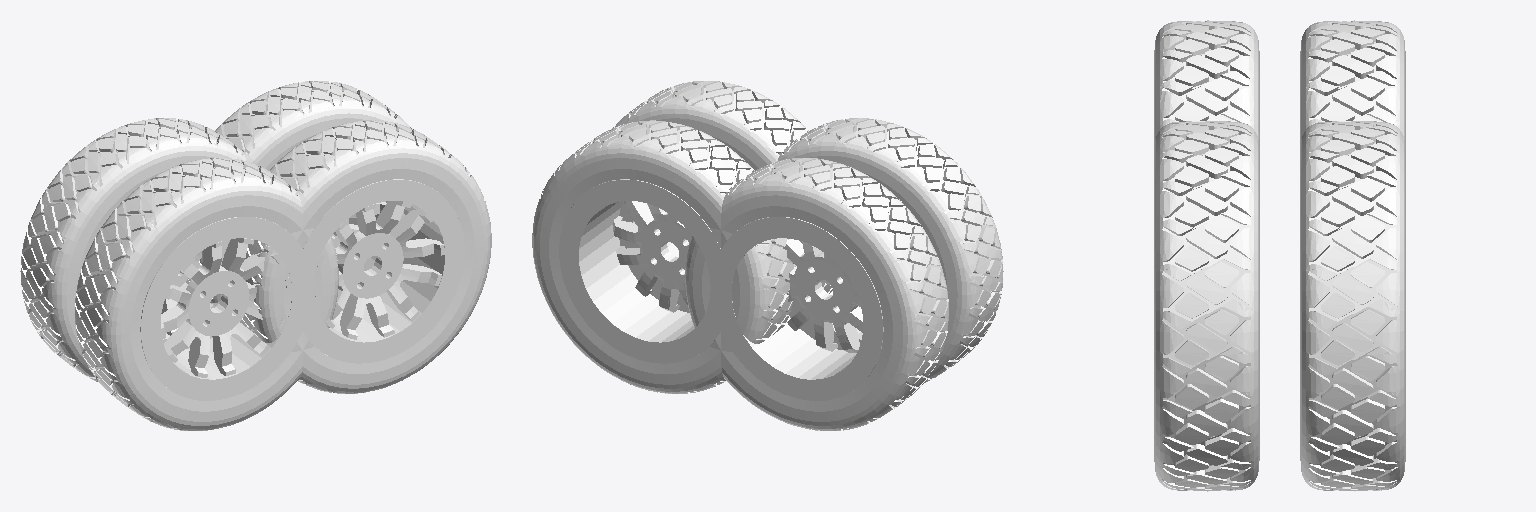
robot.urdf — racecar:
<?xml version="1.0" ?>
<!-- =================================================================================== -->
<!-- |    This document was autogenerated by xacro from racecar.xacro                  | -->
<!-- |    EDITING THIS FILE BY HAND IS NOT RECOMMENDED                                 | -->
<!-- =================================================================================== -->
<robot name="racecar" xmlns:xacro="http://www.ros.org/wiki/xacro">
  <!-- inertial parameter macros -->
  <!-- geometry macros -->
  <!-- transmission macros -->
  <!-- Add chassis and it's inertia link -->
  <link name="base_link">
   <inertial>
      <origin rpy="0 0 0" xyz="0 0 0"/>
      <mass value=".1"/>
      <inertia ixx="0.010609" ixy="0" ixz="0" iyy="0.050409" iyz="0" izz="0.05865"/>
    </inertial>
  </link>
  <link name="chassis">
   <inertial>
      <origin rpy="0 0 0" xyz="0 0 0"/>
      <mass value=".1"/>
      <inertia ixx="0.010609" ixy="0" ixz="0" iyy="0.050409" iyz="0" izz="0.05865"/>
    </inertial>
    <visual>
      <origin rpy="0 0 0" xyz="0 0 0"/>
      <geometry>
        <mesh filename="meshes/apcar_base.stl"/>
      </geometry>
      <material name="blue"/>
    </visual>
  </link>
  <joint name="base_link_joint" type="fixed">
    <origin rpy="0 0 0" xyz="0 0 0.05"/>
    <parent link="base_link"/>
    <child link="chassis"/>
  </joint>
  <link name="chassis_inertia">
    <inertial>
      <origin rpy="0 0 0" xyz="0.1477 0 0"/>
      <mass value="650.0"/>
      <inertia ixx="227.1" ixy="0" ixz="0" iyy="600.2" iyz="0" izz="591.5"/>
    </inertial>
  </link>
  <joint name="chassis_inertia_joint" type="fixed">
    <origin rpy="0 0 0" xyz="0 0 0"/>
    <parent link="chassis"/>
    <child link="chassis_inertia"/>
  </joint>
  <!-- Add the left rear wheel with its joints and tranmissions -->
  <link name="left_rear_wheel">
    <inertial>
      <origin rpy="0 0 0" xyz="0 0 -0.0225"/>
      <mass value="14"/>
      <inertia ixx="0.2366" ixy="0" ixz="0" iyy="0.2366" iyz="0" izz="0.3703"/>
    </inertial>
    <visual>
      <origin rpy="0 0 0" xyz="0 0 0"/>
      <geometry>
        <mesh filename="meshes/apcar_wheel.stl"/>
      </geometry>
      <material name="white"/>
    </visual>
    <collision>
      <origin rpy="0 0 0" xyz="0 0 -0.0225"/>
      <geometry>
        <cylinder length="0.21" radius="0.23"/>
      </geometry>
    </collision>
  </link>
  <joint name="left_rear_wheel_joint" type="continuous">
    <origin rpy="1.5708 0 0" xyz="0 0.1 0"/>
    <parent link="chassis"/>
    <child link="left_rear_wheel"/>
    <axis xyz="0 0 -1"/>
    <limit effort="10" velocity="100"/>
  </joint>
  <transmission name="left_rear_wheel_transmission" type="SimpleTransmission">
    <type>transmission_interface/SimpleTransmission</type>
    <joint name="left_rear_wheel_joint">
      <hardwareInterface>EffortJointInterface</hardwareInterface>
    </joint>
    <actuator name="left_rear_wheel_motor">
      <hardwareInterface>EffortJointInterface</hardwareInterface>
      <mechanicalReduction>1</mechanicalReduction>
    </actuator>
  </transmission>
  <!-- Add the right rear wheel with its joints and tranmissions -->
  <link name="right_rear_wheel">
    <inertial>
      <origin rpy="0 0 0" xyz="0 0 0.0225"/>
      <mass value="0.34055"/>
      <inertia ixx="0.00026046" ixy="0" ixz="0" iyy="0.00026046" iyz="0" izz="0.00041226"/>
    </inertial>
    <visual>
      <origin rpy="0 0 0" xyz="0 0 0"/>
      <geometry>
        <mesh filename="meshes/apcar_wheel.stl"/>
      </geometry>
      <material name="white"/>
    </visual>
    <collision>
      <origin rpy="0 0 0" xyz="0 0 0.0225"/>
      <geometry>
        <cylinder length="0.045" radius="0.05"/>
      </geometry>
    </collision>
  </link>
  <joint name="right_rear_wheel_joint" type="continuous">
    <origin rpy="1.5708 0 0" xyz="0 -0.1 0"/>
    <parent link="chassis"/>
    <child link="right_rear_wheel"/>
    <axis xyz="0 0 -1"/>
    <limit effort="10" velocity="100"/>
  </joint>
  <transmission name="right_rear_wheel_transmission" type="SimpleTransmission">
    <type>transmission_interface/SimpleTransmission</type>
    <joint name="right_rear_wheel_joint">
      <hardwareInterface>EffortJointInterface</hardwareInterface>
    </joint>
    <actuator name="right_rear_wheel_motor">
      <hardwareInterface>EffortJointInterface</hardwareInterface>
      <mechanicalReduction>1</mechanicalReduction>
    </actuator>
  </transmission>
  <!-- Add the left steering hinge with its joints and tranmissions -->
  <link name="left_steering_hinge">
    <inertial>
      <origin rpy="0 0 0" xyz="0 0 0"/>
      <mass value="0.100"/>
      <inertia ixx="4E-06" ixy="0" ixz="0" iyy="4E-06" iyz="0" izz="4E-06"/>
    </inertial>
    <visual>
      <origin rpy="0 0 0" xyz="0 0 0"/>
      <geometry>
        <mesh filename="meshes/left_steering_hinge.STL"/>
      </geometry>
      <material name="grey"/>
    </visual>
  </link>
  <joint name="left_steering_hinge_joint" type="revolute">
    <origin rpy="0 1.5708 0" xyz="0.325 0.1 0"/>
    <parent link="chassis"/>
    <child link="left_steering_hinge"/>
    <axis xyz="-1 0 0"/>
    <limit effort="10" lower="-1.0" upper="1.0" velocity="100"/>
  </joint>
  <transmission name="left_steering_hinge_transmission" type="SimpleTransmission">
    <type>transmission_interface/SimpleTransmission</type>
    <joint name="left_steering_hinge_joint">
      <hardwareInterface>EffortJointInterface</hardwareInterface>
    </joint>
    <actuator name="left_steering_hinge_motor">
      <hardwareInterface>EffortJointInterface</hardwareInterface>
      <mechanicalReduction>1</mechanicalReduction>
    </actuator>
  </transmission>
  <!-- Add the right steering hinge with its joints and tranmissions -->
  <link name="right_steering_hinge">
    <inertial>
      <origin rpy="0 0 0" xyz="0 0 0"/>
      <mass value="0.100"/>
      <inertia ixx="4E-06" ixy="0" ixz="0" iyy="4E-06" iyz="0" izz="4E-06"/>
    </inertial>
    <visual>
      <origin rpy="0 0 0" xyz="0 0 0"/>
      <geometry>
        <mesh filename="meshes/right_steering_hinge.STL"/>
      </geometry>
      <material name="grey"/>
    </visual>
  </link>
  <joint name="right_steering_hinge_joint" type="continuous">
    <origin rpy="0 1.5708 0" xyz="0.325 -0.1 0"/>
    <parent link="chassis"/>
    <child link="right_steering_hinge"/>
    <axis xyz="-1 0 0"/>
    <limit effort="10" lower="-1.0" upper="1.0" velocity="100"/>
  </joint>
  <transmission name="right_steering_hinge_transmission" type="SimpleTransmission">
    <type>transmission_interface/SimpleTransmission</type>
    <joint name="right_steering_hinge_joint">
      <hardwareInterface>EffortJointInterface</hardwareInterface>
    </joint>
    <actuator name="right_steering_hinge_motor">
      <hardwareInterface>EffortJointInterface</hardwareInterface>
      <mechanicalReduction>1</mechanicalReduction>
    </actuator>
  </transmission>
  <!-- Add the left front wheel with its joints and tranmissions -->
  <link name="left_front_wheel">
    <inertial>
      <origin rpy="0 0 0" xyz="0 0 -0.0225"/>
      <mass value="0.34055"/>
      <inertia ixx="0.00026046" ixy="0" ixz="0" iyy="0.00026046" iyz="0" izz="0.00041226"/>
    </inertial>
    <visual>
      <origin rpy="0 0 0" xyz="0 0 0"/>
      <geometry>
        <mesh filename="meshes/apcar_wheel.stl"/>
      </geometry>
      <material name="white"/>
    </visual>
    <collision>
      <origin rpy="0 0 0" xyz="0 0 -0.0225"/>
      <geometry>
        <cylinder length="0.045" radius="0.05"/>
      </geometry>
    </collision>
  </link>
  <joint name="left_front_wheel_joint" type="continuous">
    <origin rpy="1.5708 0 0" xyz="0 0 0"/>
    <parent link="left_steering_hinge"/>
    <child link="left_front_wheel"/>
    <axis xyz="0 0 -1"/>
    <limit effort="10" velocity="100"/>
  </joint>
  <transmission name="left_front_wheel_transmission" type="SimpleTransmission">
    <type>transmission_interface/SimpleTransmission</type>
    <joint name="left_front_wheel_joint">
      <hardwareInterface>EffortJointInterface</hardwareInterface>
    </joint>
    <actuator name="left_front_wheel_motor">
      <hardwareInterface>EffortJointInterface</hardwareInterface>
      <mechanicalReduction>1</mechanicalReduction>
    </actuator>
  </transmission>
  <!-- Add the left front wheel with its joints and tranmissions -->
  <link name="right_front_wheel">
    <inertial>
      <origin rpy="0 0 0" xyz="0 0 0.0225"/>
      <mass value="0.34055"/>
      <inertia ixx="0.00026046" ixy="0" ixz="0" iyy="0.00026046" iyz="0" izz="0.00041226"/>
    </inertial>
    <visual>
      <origin rpy="0 0 0" xyz="0 0 0"/>
      <geometry>
        <mesh filename="meshes/apcar_wheel.stl"/>
      </geometry>
      <material name="white"/>
    </visual>
    <collision>
      <origin rpy="0 0 0" xyz="0 0 0.0225"/>
      <geometry>
        <cylinder length="0.045" radius="0.05"/>
      </geometry>
    </collision>
  </link>
  <joint name="right_front_wheel_joint" type="continuous">
    <origin rpy="1.5708 0 0" xyz="0 0 0"/>
    <parent link="right_steering_hinge"/>
    <child link="right_front_wheel"/>
    <axis xyz="0 0 -1"/>
    <limit effort="10" velocity="100"/>
  </joint>
  <transmission name="right_front_wheel_transmission" type="SimpleTransmission">
    <type>transmission_interface/SimpleTransmission</type>
    <joint name="right_front_wheel_joint">
      <hardwareInterface>EffortJointInterface</hardwareInterface>
    </joint>
    <actuator name="right_front_wheel_motor">
      <hardwareInterface>EffortJointInterface</hardwareInterface>
      <mechanicalReduction>1</mechanicalReduction>
    </actuator>
  </transmission>
  <!-- Add the remaining xacros -->
  <!-- Gazebo references -->
  <gazebo reference="chassis">
    <mu1 value="0.0"/>
    <mu2 value="0.0"/>
    <kp value="10000000.0"/>
    <kd value="1.0"/>
    <material>Gazebo/Blue</material>
  </gazebo>
  <gazebo reference="left_rear_wheel">
    <mu1 value="1.0"/>
    <mu2 value="1.0"/>
    <kp value="10000000.0"/>
    <kd value="1.0"/>
    <fdir1 value="1 0 0"/>
    <material>Gazebo/Black</material>
  </gazebo>
  <gazebo reference="right_rear_wheel">
    <mu1 value="1.0"/>
    <mu2 value="1.0"/>
    <kp value="10000000.0"/>
    <kd value="1.0"/>
    <fdir1 value="1 0 0"/>
    <material>Gazebo/Black</material>
  </gazebo>
  <gazebo reference="left_front_wheel">
    <mu1 value="1.0"/>
    <mu2 value="1.0"/>
    <kp value="10000000.0"/>
    <kd value="1.0"/>
    <fdir1 value="0 0 1"/>
    <material>Gazebo/Black</material>
  </gazebo>
  <gazebo reference="right_front_wheel">
    <mu1 value="1.0"/>
    <mu2 value="1.0"/>
    <kp value="10000000.0"/>
    <kd value="1.0"/>
    <fdir1 value="0 0 1"/>
    <material>Gazebo/Black</material>
  </gazebo>
  <!-- Gazebo plugins -->
  <gazebo>
    <plugin filename="libgazebo_ros_control.so" name="gazebo_ros_control">
      <robotNamespace>/racecar</robotNamespace>
      <robotSimType>gazebo_ros_control/DefaultRobotHWSim</robotSimType>
    </plugin>
  </gazebo>
  <material name="white">
    <color rgba="1. 1. 1. 1.0"/>
  </material>
  <material name="black">
    <color rgba="0. 0. 0. 1.0"/>
  </material>
  <material name="blue">
    <color rgba="0.0 0.0 0.8 1.0"/>
  </material>
  <material name="green">
    <color rgba="0.0 0.8 0.0 1.0"/>
  </material>
  <material name="grey">
    <color rgba="0.2 0.2 0.2 1.0"/>
  </material>
  <material name="orange">
    <color rgba="1.0 0.423529411765 0.0392156862745 1.0"/>
  </material>
  <material name="brown">
    <color rgba="0.870588235294 0.811764705882 0.764705882353 1.0"/>
  </material>
  <material name="red">
    <color rgba="0.8 0.0 0.0 1.0"/>
  </material>
</robot>

--- Facts derived from the render (not from the file) ---
The picture shows the robot from 3 angles, left to right: view 1: azimuth 30°, elevation 25°; view 2: azimuth 150°, elevation 25°; view 3: azimuth 270°, elevation 25°; orthographic projection.
Robot: racecar — 9 links, 8 joints (1 revolute, 5 continuous, 2 fixed); root link base_link; default pose: every joint at zero.
Links seen in each view (by area): view 1: right_rear_wheel, right_front_wheel, left_rear_wheel, left_front_wheel; view 2: left_front_wheel, left_rear_wheel, right_rear_wheel, right_front_wheel; view 3: right_front_wheel, left_front_wheel, right_rear_wheel, left_rear_wheel.
Link boxes in pixels (left/top/right/bottom): right_rear_wheel: left=75, top=158, right=338, bottom=430; right_front_wheel: left=240, top=120, right=491, bottom=393; left_rear_wheel: left=20, top=118, right=245, bottom=381; left_front_wheel: left=186, top=81, right=412, bottom=310; left_front_wheel: left=532, top=120, right=795, bottom=393; left_rear_wheel: left=685, top=158, right=948, bottom=430; right_rear_wheel: left=778, top=118, right=1003, bottom=382; right_front_wheel: left=610, top=81, right=832, bottom=312; right_front_wheel: left=1154, top=121, right=1259, bottom=491; left_front_wheel: left=1300, top=121, right=1405, bottom=491; right_rear_wheel: left=1154, top=20, right=1259, bottom=150; left_rear_wheel: left=1300, top=20, right=1405, bottom=150.
Size in the robot's own frame: 0.8328 by 0.345 by 0.5078 metres.
Meshes: 4 distinct files referenced, 4 mesh visuals loaded (1 binary STL); not drawn: 3 (reference not matched to a file when rendering).